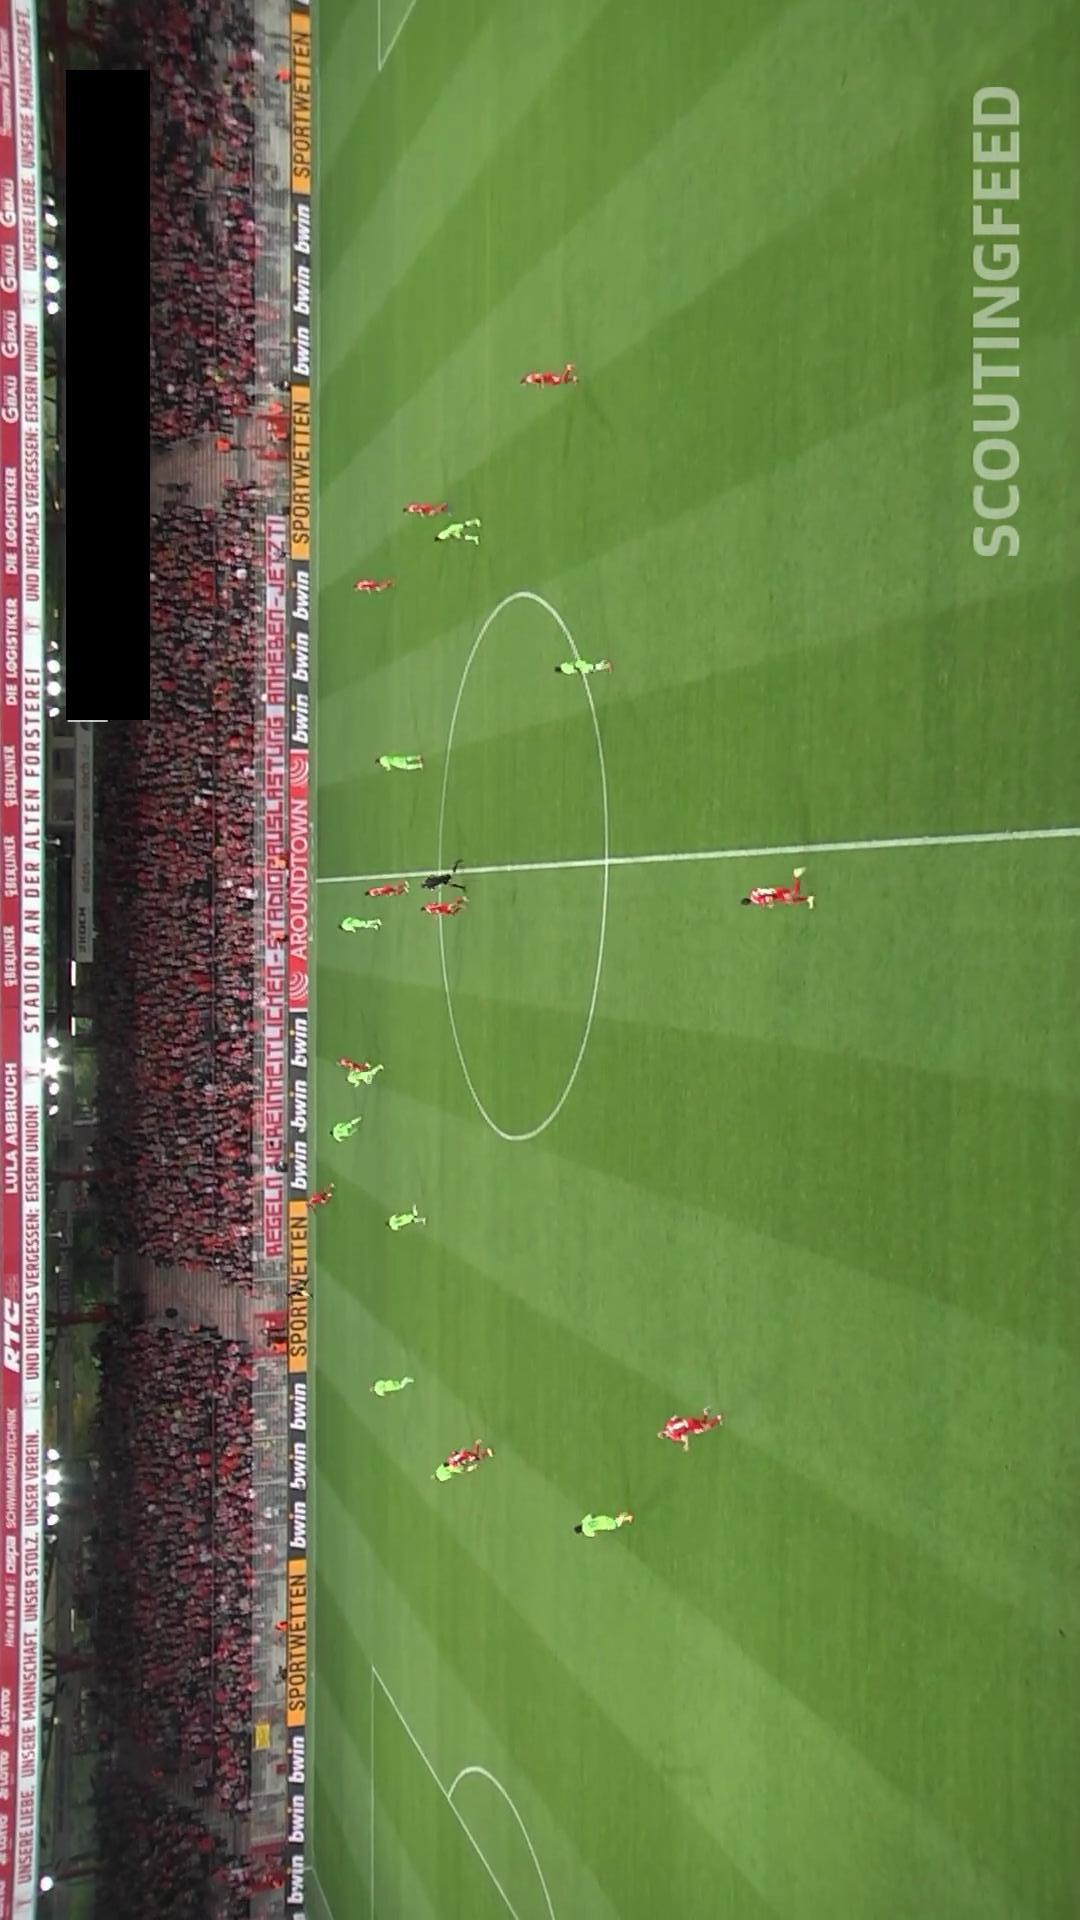player: (739, 866, 816, 910), (656, 1405, 724, 1451), (443, 1438, 494, 1473), (428, 1454, 483, 1485), (572, 1511, 634, 1538), (518, 362, 578, 388), (433, 518, 481, 546), (341, 1063, 384, 1087), (367, 1376, 416, 1397), (554, 658, 612, 675), (420, 897, 468, 917), (328, 1115, 362, 1143), (383, 1210, 427, 1231), (373, 754, 423, 772), (308, 1180, 338, 1209), (336, 916, 381, 934), (401, 502, 450, 518), (352, 577, 396, 594), (365, 882, 409, 898), (337, 1058, 377, 1072)
referee: (421, 859, 468, 897), (276, 1274, 316, 1302)
